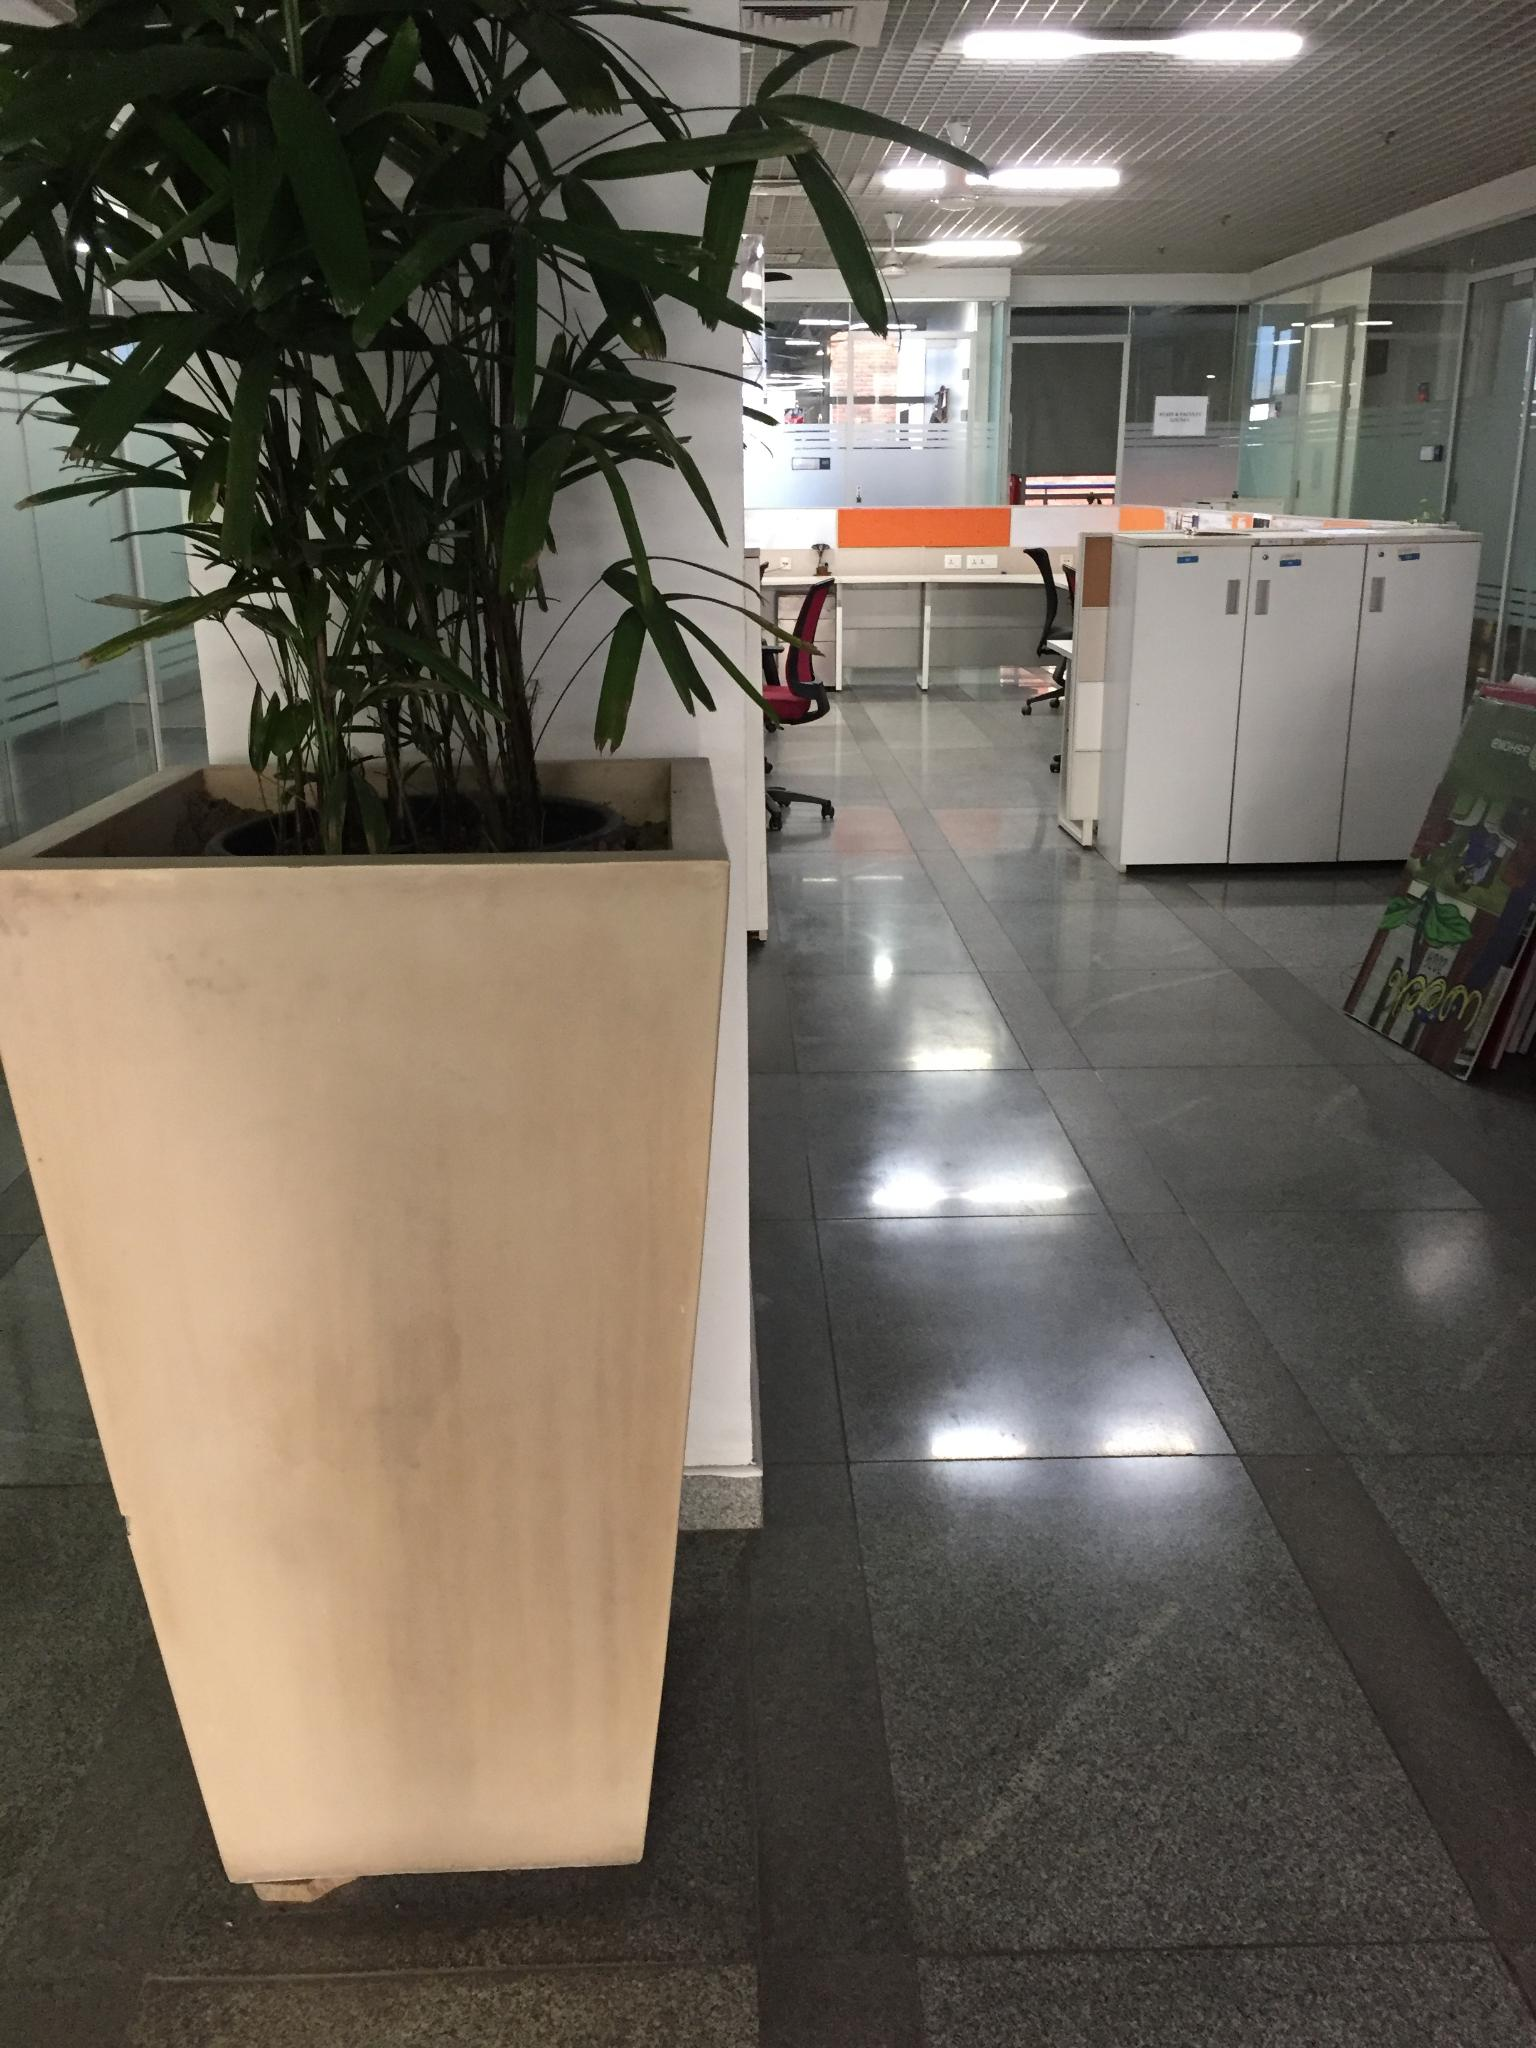chair: (762, 577, 836, 830), (1020, 550, 1107, 753)
